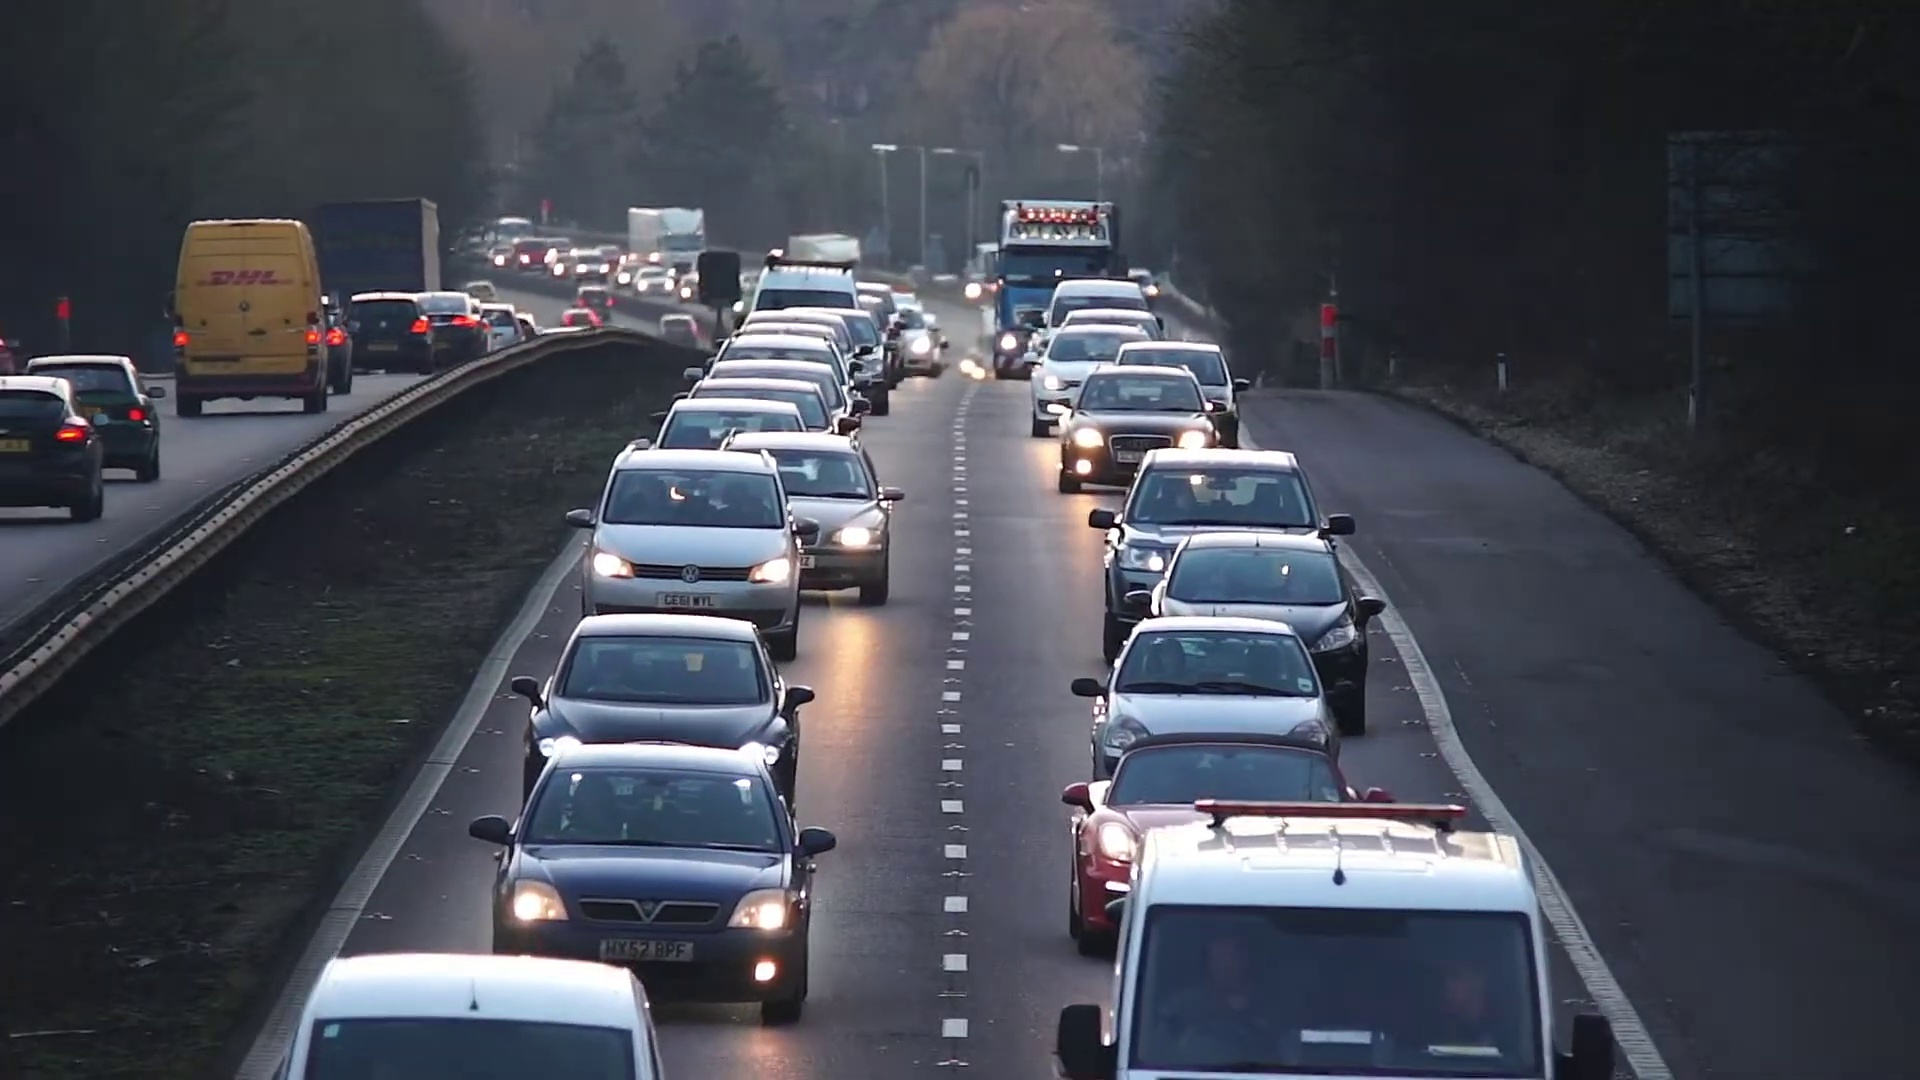license_plate: (600, 934, 695, 969)
